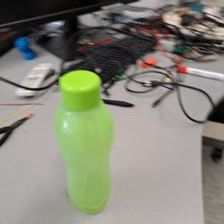bottle: (54, 67, 115, 216)
